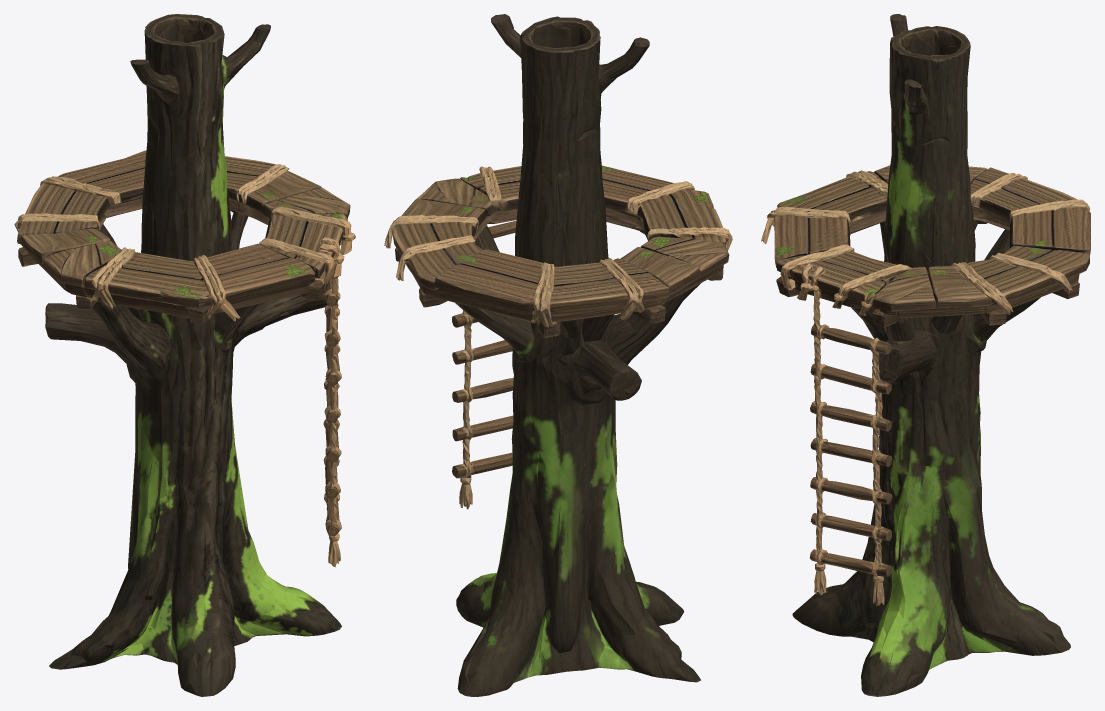
Rendered from TreePlatform.fbx.
3 views of the same model, side by side, from view 1: azimuth 30°, elevation 25°; view 2: azimuth 150°, elevation 25°; view 3: azimuth 270°, elevation 25° (orthographic). The views are drawn at different scales.
Visible parts, largest first — view 1: TreePlatform; view 2: TreePlatform; view 3: TreePlatform.
Boxes of the visible parts, box(x1,y1,x2,y2) form: TreePlatform: box(14, 14, 355, 696); TreePlatform: box(384, 14, 732, 696); TreePlatform: box(761, 14, 1090, 696).
Bounding box in the file's own units: 1 × 2 × 1.01.
Materials: 1 (1 with a texture image).
